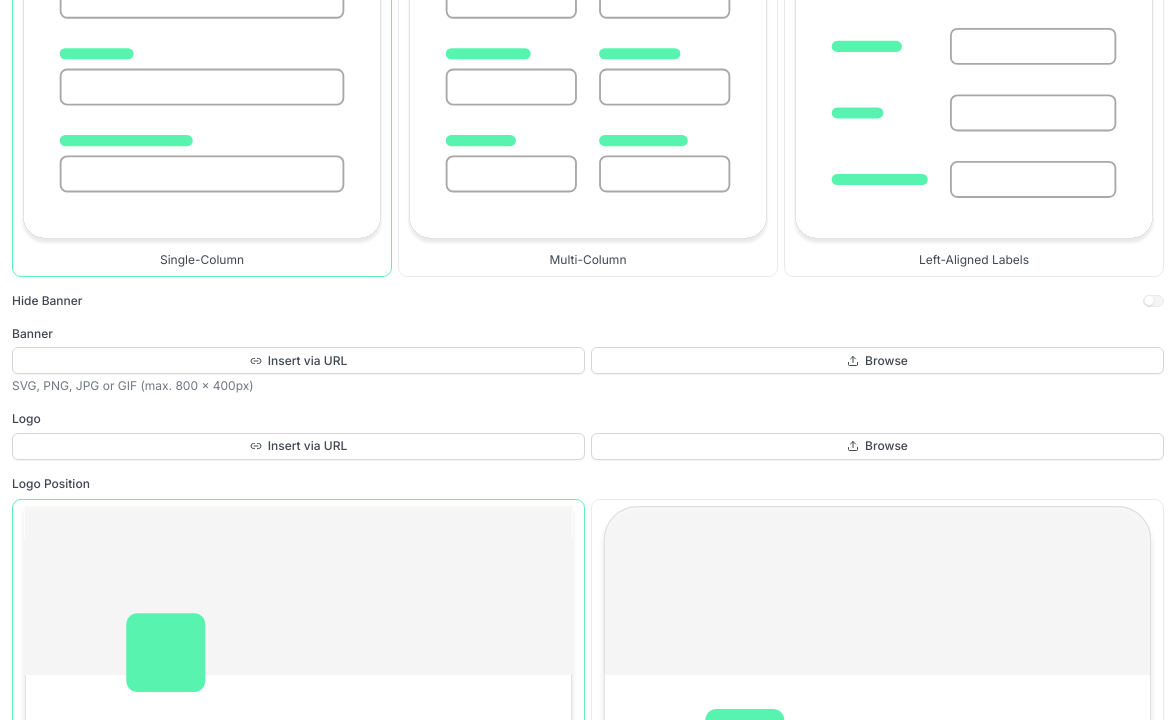
Scenario: AppearanceSettings › Banner URL size validation › rejects a URL that does not load as an image
(page scrolled)
Click the 1st button "Insert via URL".
click(298, 360)  # box [12,347,585,374]
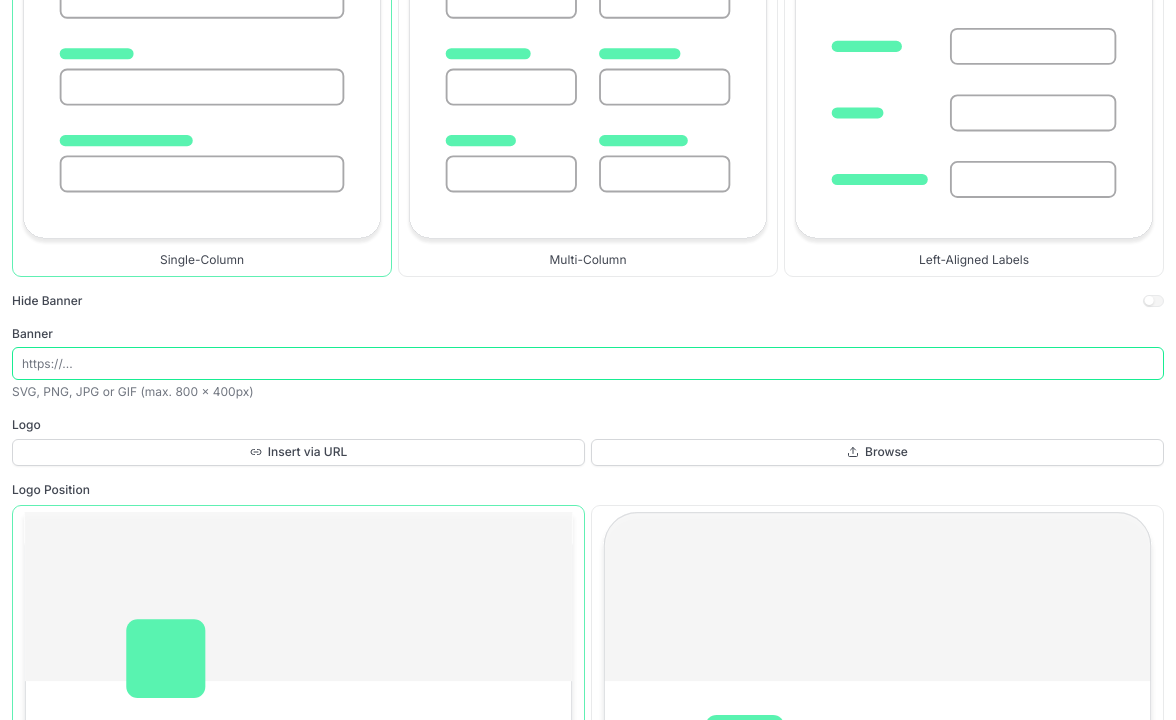
Type "https://img/broken.png" into the field with placeholder "https://...".
click(588, 364); type("https://img/broken.png")  # box [12,347,1164,380]
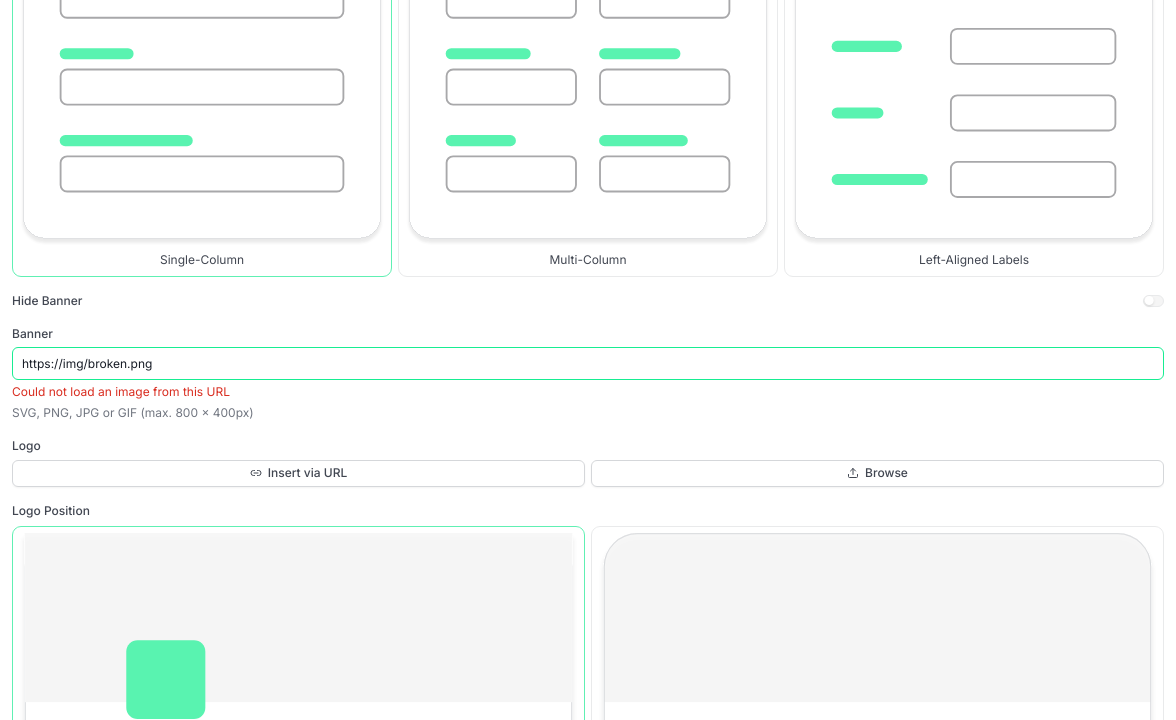
Expected: the text "Could not load an image from this URL" is shown, [12,384,230,399]
